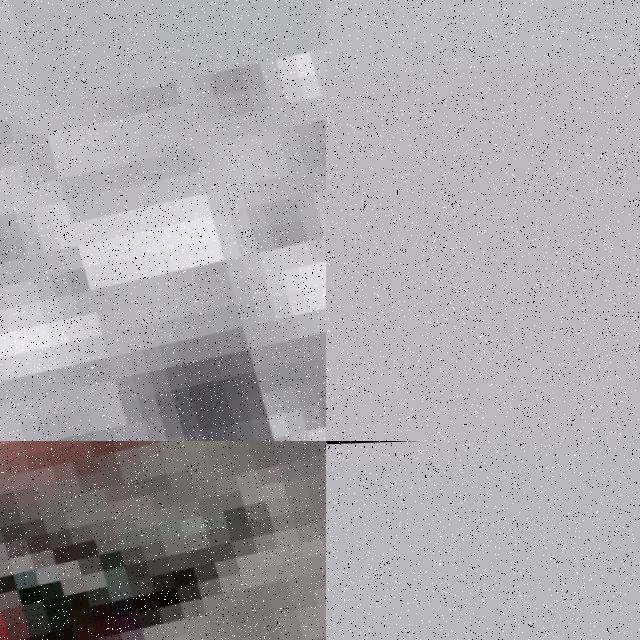drone: (0, 0, 326, 441), (0, 441, 326, 640)
